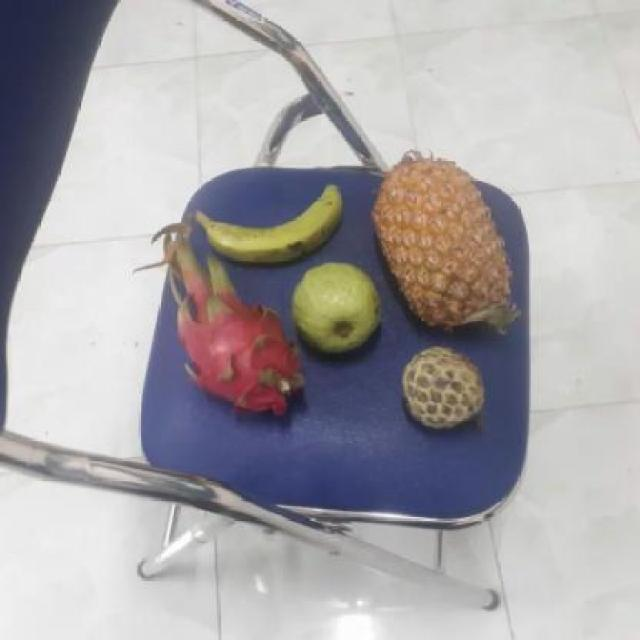banana: (199, 177, 346, 266)
dragon fruit: (176, 246, 307, 412)
guava: (289, 260, 388, 354)
pineapple: (375, 156, 523, 335)
sugar apple: (402, 347, 493, 430)
